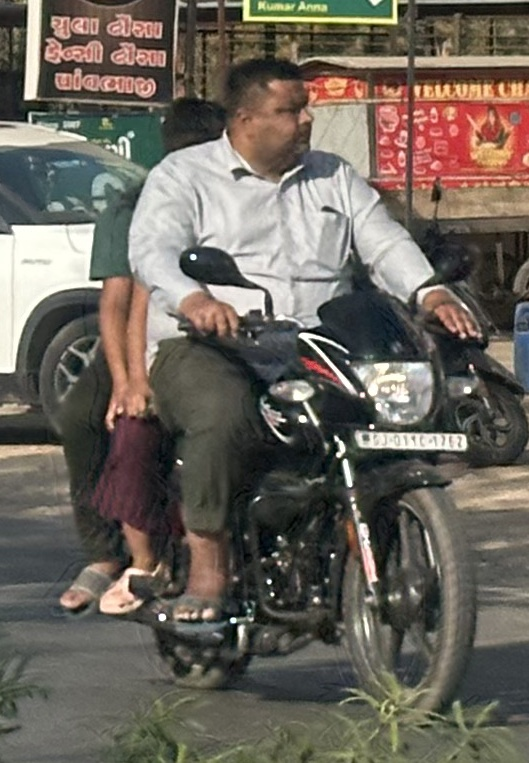BikeWithRider: (40, 55, 492, 735)
NoHelmet: (217, 54, 324, 175), (151, 91, 233, 174)
